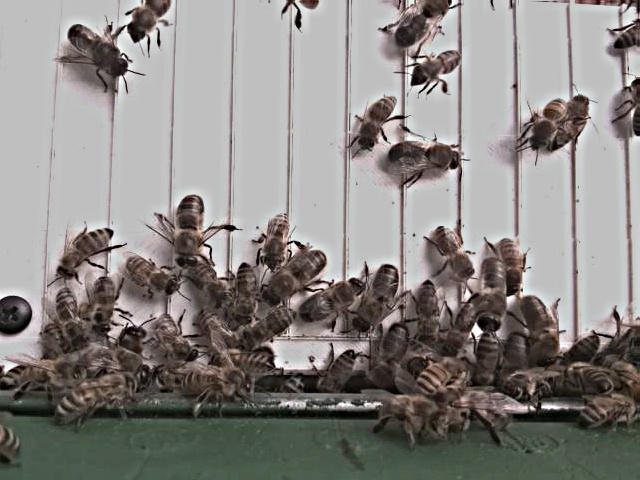Drone: (258, 248, 327, 307), (66, 20, 133, 79), (350, 260, 402, 336), (296, 276, 367, 326), (522, 289, 562, 368), (388, 135, 464, 175), (174, 189, 210, 270), (475, 254, 511, 335), (392, 0, 450, 49)
Worker: (56, 223, 118, 280), (355, 90, 398, 150)
